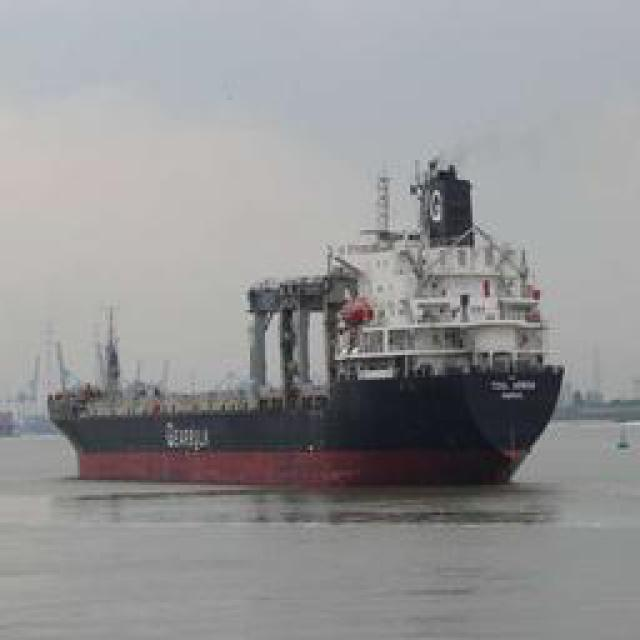Ship: (85, 149, 553, 492)
